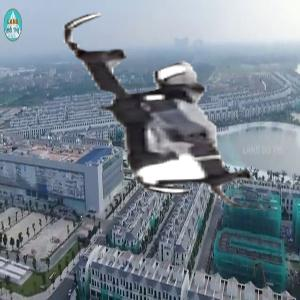drone: (50, 3, 268, 221)
